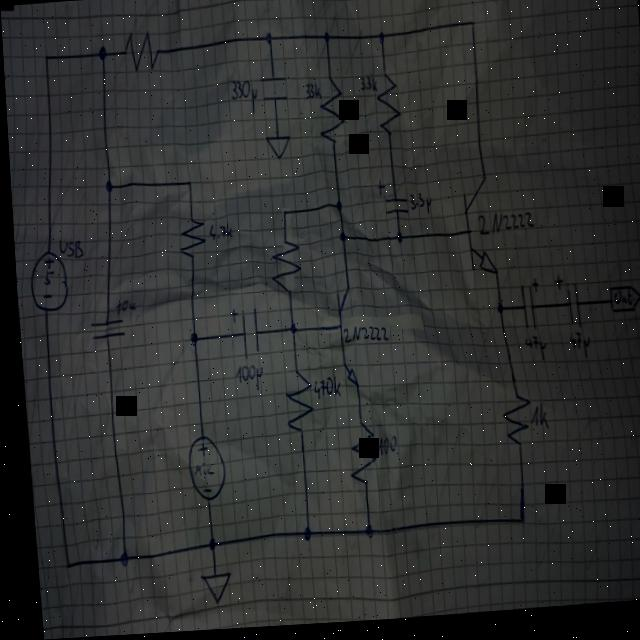capacitor: (224, 305, 258, 364), (550, 277, 579, 337), (373, 181, 406, 222), (513, 282, 537, 337), (83, 315, 122, 343), (256, 76, 287, 108)
ground: (190, 570, 226, 609), (263, 134, 289, 164)
junction: (95, 45, 107, 63), (111, 550, 121, 569), (294, 528, 305, 545), (356, 526, 366, 543), (199, 536, 209, 553), (283, 323, 293, 339), (263, 33, 273, 49), (184, 331, 194, 347), (101, 179, 110, 195), (375, 33, 384, 48), (510, 516, 519, 531), (331, 201, 340, 216), (321, 33, 329, 48), (335, 233, 343, 247), (392, 234, 399, 248), (57, 559, 64, 573), (491, 307, 499, 319), (183, 179, 190, 191), (468, 23, 475, 33), (42, 52, 48, 63), (278, 210, 284, 220)
resistor: (313, 76, 345, 152), (277, 370, 309, 439), (340, 425, 372, 493), (264, 239, 299, 301), (372, 74, 400, 143), (120, 28, 161, 75), (494, 395, 526, 453), (173, 217, 203, 260)
source: (23, 247, 67, 315)
terminal: (604, 291, 639, 320)
text: (474, 213, 532, 242), (337, 323, 385, 348), (228, 80, 257, 118), (228, 364, 258, 395), (305, 377, 336, 404), (518, 340, 543, 369), (563, 337, 586, 366), (522, 407, 543, 436), (406, 195, 430, 220), (55, 237, 81, 260), (203, 222, 230, 244), (370, 437, 391, 460), (187, 461, 210, 482), (357, 76, 376, 97), (110, 298, 132, 316), (303, 83, 320, 104), (608, 295, 628, 311), (38, 269, 50, 286)
transistor: (457, 178, 496, 285), (330, 287, 355, 394)
